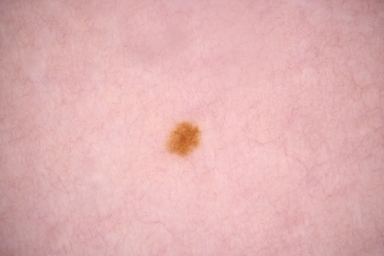nevus: (164, 121, 203, 154)
